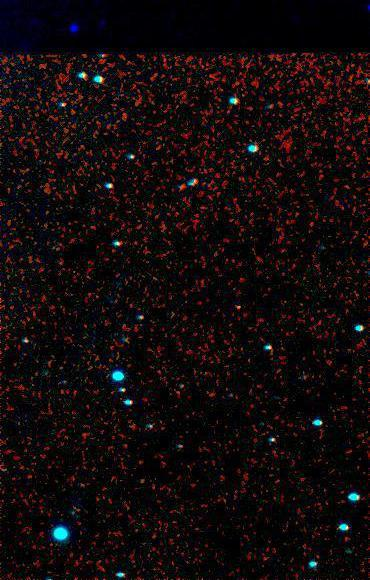star: (223, 293, 253, 323)
